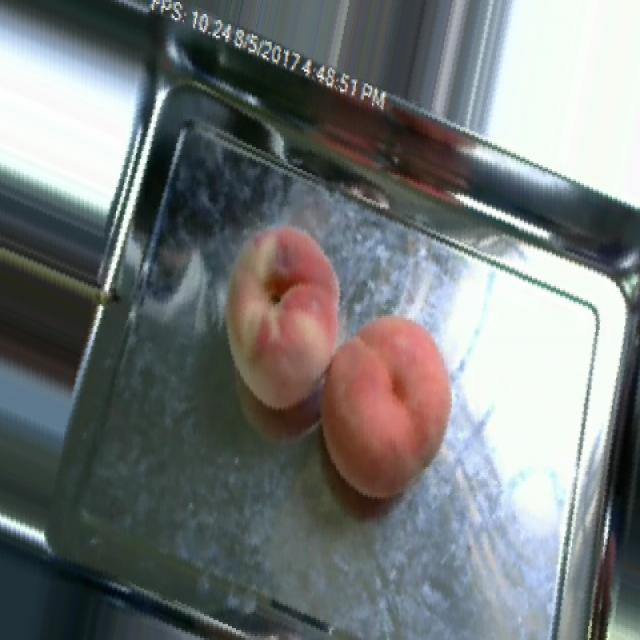Fruit: (295, 298, 473, 517), (203, 209, 361, 429)
